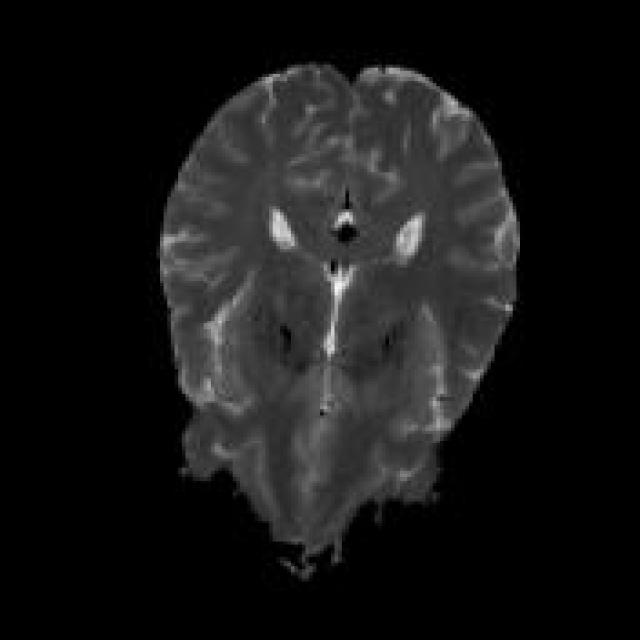parkinson: (153, 59, 520, 578)
